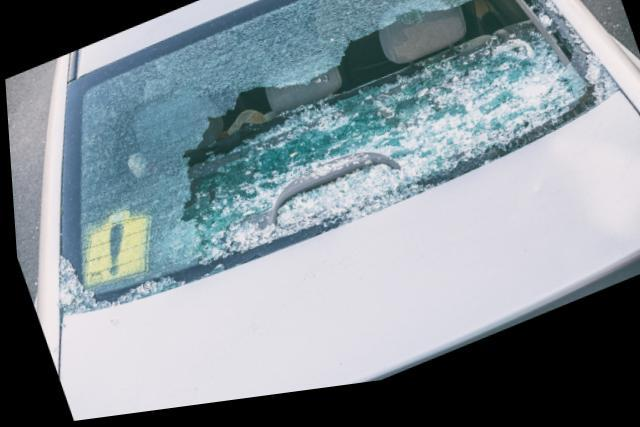glass shatter: (55, 0, 618, 316)
